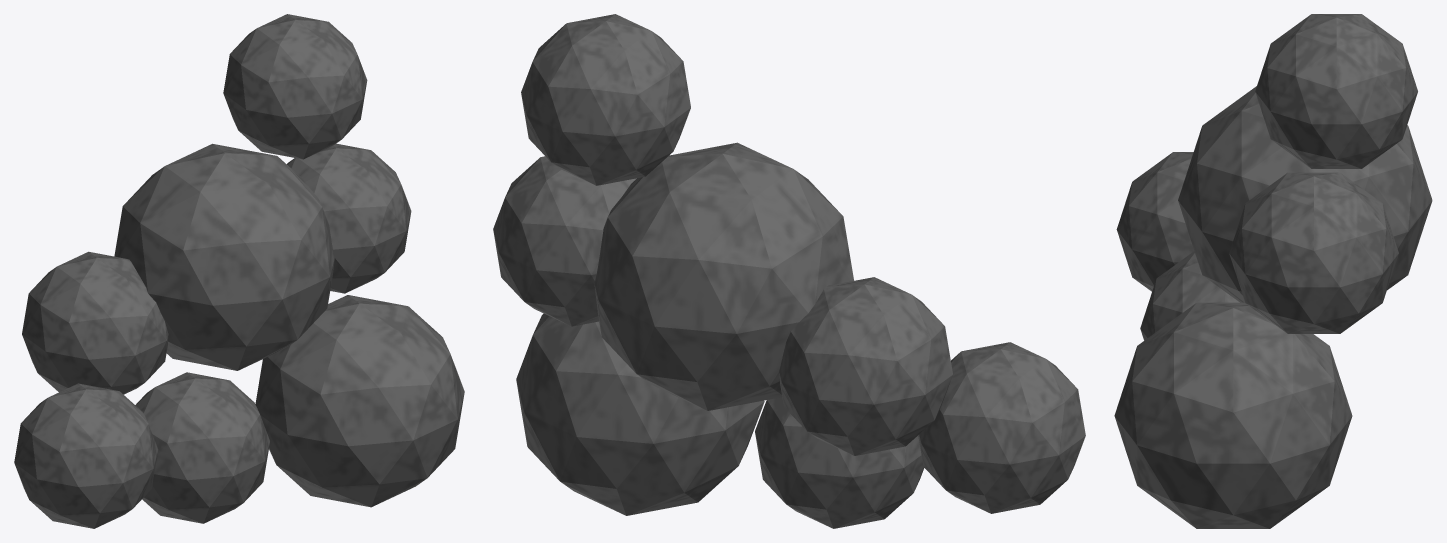
File: Blockage.fbx
The picture shows the model from 3 angles, left to right: view 1: azimuth 30°, elevation 25°; view 2: azimuth 150°, elevation 25°; view 3: azimuth 270°, elevation 25°; orthographic projection. The views are drawn at different scales.
Parts seen in each view (by area): view 1: Cube.028; view 2: Cube.028; view 3: Cube.028.
Part boxes in pixels (box(x1,y1,x2,y2)): Cube.028: box(14, 14, 464, 528); Cube.028: box(493, 14, 1085, 528); Cube.028: box(1114, 14, 1432, 528).
Bounding box in the file's own units: 4.71 × 4.6 × 2.67.
